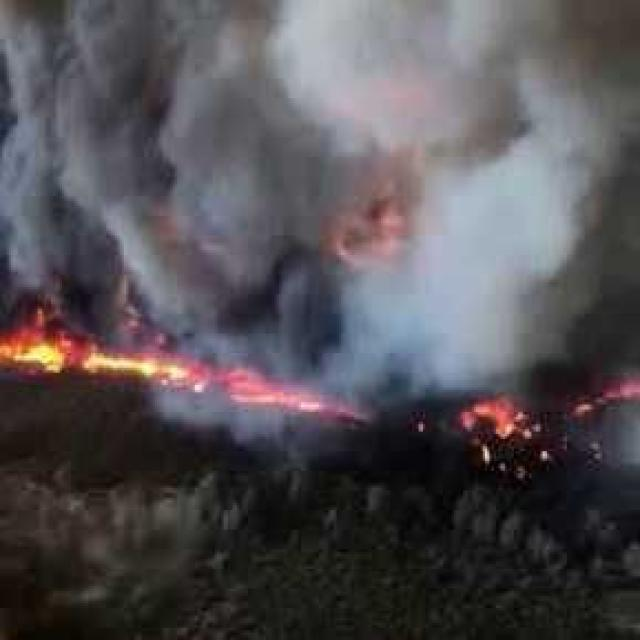Fire: (7, 314, 84, 379), (187, 356, 283, 404), (90, 344, 185, 384), (448, 390, 519, 426)
Smoke: (0, 0, 258, 231), (423, 14, 628, 280)
